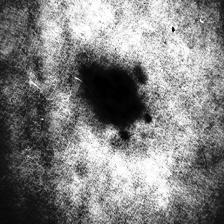Benign Marking or Mole: (81, 64, 155, 140)
